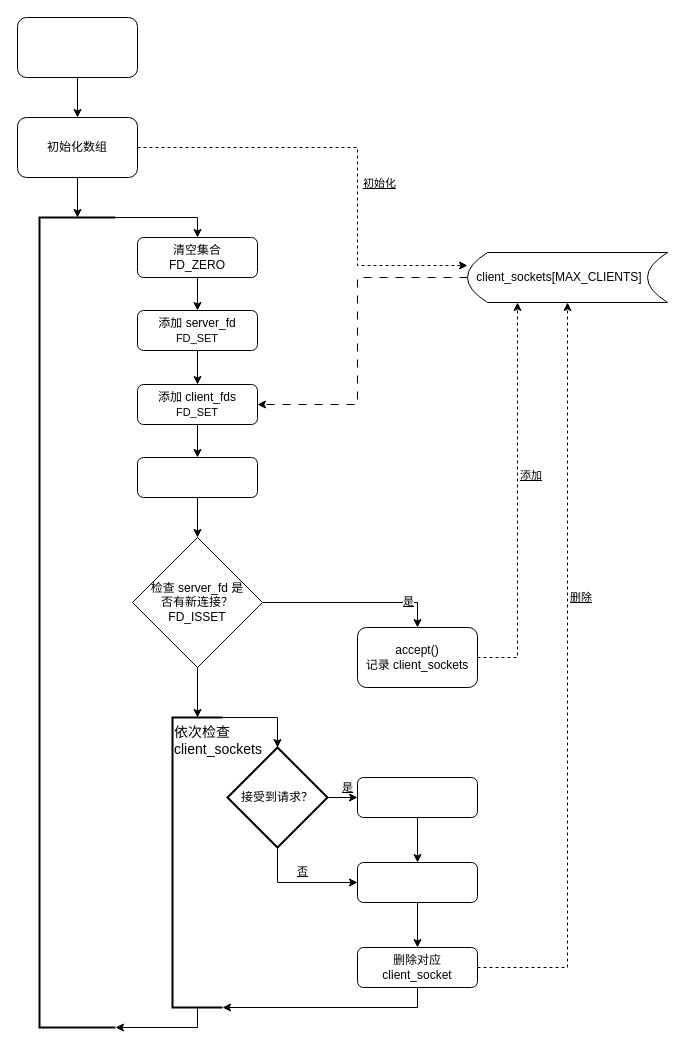
The diagram is 685 pixels wide and 1053 high, and some of its shapes have lost their labels. Each missing label, with the centre of its shape:
ready = select(): point 197,477
while(true): point 77,622
关闭连接: point 417,882
创建 server_fd: point 77,47
返回固定页面: point 417,797
